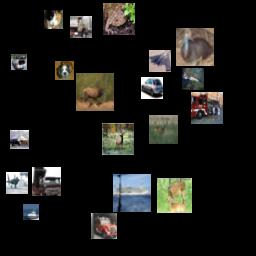airplane: (149, 50, 171, 72), (182, 68, 204, 90), (6, 172, 28, 194)
automobile: (141, 77, 163, 99), (10, 130, 29, 149), (11, 54, 27, 70)
bird: (176, 28, 214, 66)
cat: (44, 10, 63, 29)
deer: (76, 73, 114, 111), (157, 178, 192, 213), (102, 123, 134, 155), (149, 115, 178, 144)
dog: (55, 61, 74, 80)
frog: (103, 3, 135, 35)
ship: (113, 174, 151, 212), (23, 204, 39, 220)
truck: (191, 92, 223, 124), (32, 167, 61, 196), (91, 213, 117, 239), (70, 16, 92, 38)
